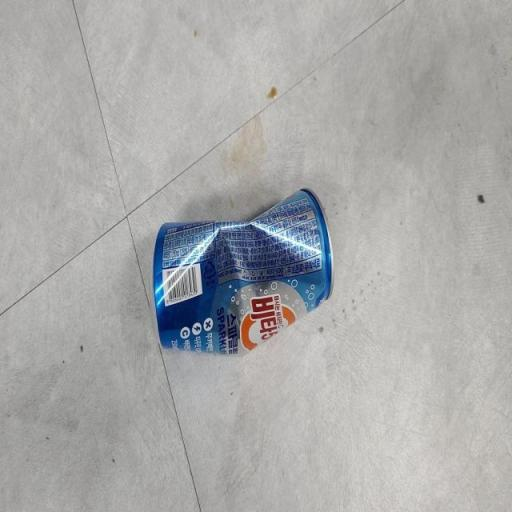metal: (144, 182, 345, 370)
